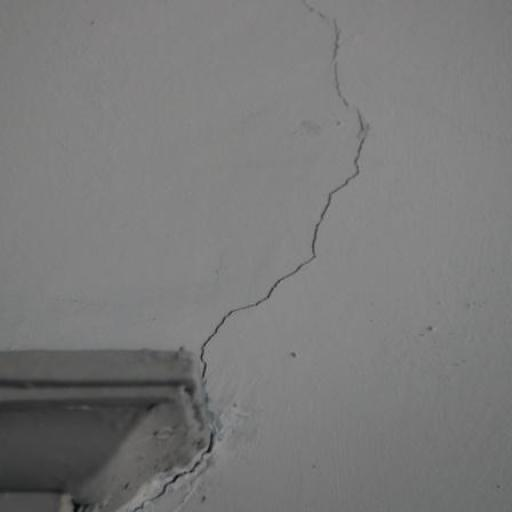spalling: (196, 17, 381, 390)
